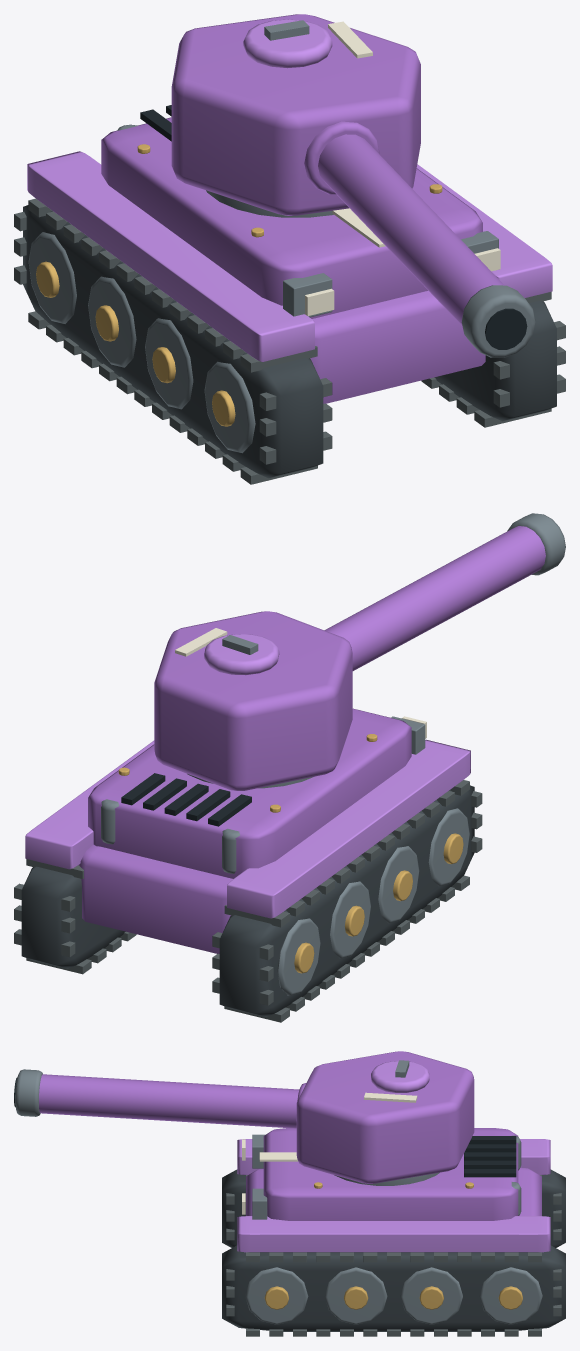
The model's file is tank_05_violet_marksman.glb.
3 renders of one model, top to bottom at view 1: azimuth 30°, elevation 25°; view 2: azimuth 150°, elevation 25°; view 3: azimuth 270°, elevation 25°, orthographic. The views are drawn at different scales.
Visible parts, largest first — view 1: Faceted turret.001, Upper deck.004, Track guard.008, Track belt.008, Lower hull.004, Cannon tube.004, Track belt.009, Track guard.009, Commander hatch.004, Muzzle rim.004, Road wheel.032, Road wheel.035 (+15 smaller); view 2: Faceted turret.001, Upper deck.004, Track guard.008, Track belt.008, Lower hull.004, Cannon tube.004, Track belt.009, Track guard.009, Commander hatch.004, Road wheel.035, Road wheel.033, Road wheel.032 (+4 smaller); view 3: Faceted turret.001, Track belt.009, Upper deck.004, Track guard.009, Cannon tube.004, Track belt.008, Road wheel.039, Road wheel.036, Road wheel.037, Road wheel.038, Track guard.008, Lower hull.004 (+16 smaller).
Boxes of the visible parts, bbox=[...] form: Faceted turret.001: bbox=[171, 14, 420, 215]; Upper deck.004: bbox=[101, 117, 482, 318]; Track guard.008: bbox=[27, 151, 314, 361]; Track belt.008: bbox=[23, 205, 323, 478]; Lower hull.004: bbox=[310, 290, 485, 403]; Cannon tube.004: bbox=[318, 134, 504, 325]; Track belt.009: bbox=[434, 301, 556, 421]; Track guard.009: bbox=[416, 164, 552, 297]; Commander hatch.004: bbox=[243, 19, 332, 68]; Muzzle rim.004: bbox=[461, 285, 535, 357]; Road wheel.032: bbox=[204, 361, 255, 453]; Road wheel.035: bbox=[28, 232, 76, 323]; Faceted turret.001: bbox=[154, 611, 352, 790]; Upper deck.004: bbox=[88, 708, 411, 878]; Track guard.008: bbox=[227, 739, 470, 918]; Track belt.008: bbox=[219, 785, 474, 1016]; Lower hull.004: bbox=[79, 844, 232, 953]; Cannon tube.004: bbox=[324, 526, 545, 670]; Track belt.009: bbox=[21, 866, 125, 968]; Track guard.009: bbox=[25, 740, 154, 869]; Commander hatch.004: bbox=[204, 634, 279, 675]; Road wheel.035: bbox=[277, 918, 320, 995]; Road wheel.033: bbox=[378, 846, 419, 923]; Road wheel.032: bbox=[428, 808, 469, 886]; Faceted turret.001: bbox=[296, 1051, 474, 1183]; Track belt.009: bbox=[222, 1245, 565, 1331]; Upper deck.004: bbox=[263, 1128, 518, 1220]; Track guard.009: bbox=[237, 1216, 550, 1252]; Cannon tube.004: bbox=[39, 1074, 299, 1128]; Track belt.008: bbox=[222, 1169, 565, 1247]; Road wheel.039: bbox=[479, 1267, 542, 1324]; Road wheel.036: bbox=[245, 1267, 308, 1324]; Road wheel.037: bbox=[324, 1267, 387, 1324]; Road wheel.038: bbox=[400, 1267, 462, 1324]; Track guard.008: bbox=[237, 1139, 550, 1174]; Lower hull.004: bbox=[246, 1167, 541, 1215].
Size of the model in its own units: 1.3 by 1.31 by 2.95.
